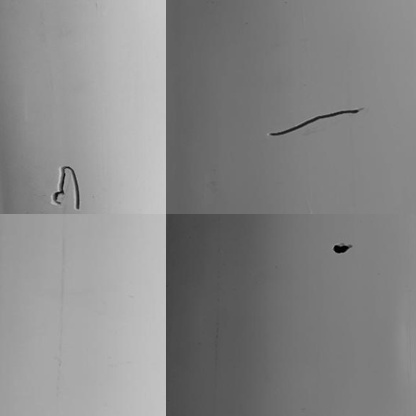fengxi: (263, 105, 363, 138), (48, 162, 85, 210)
kongdong: (333, 240, 349, 255)
